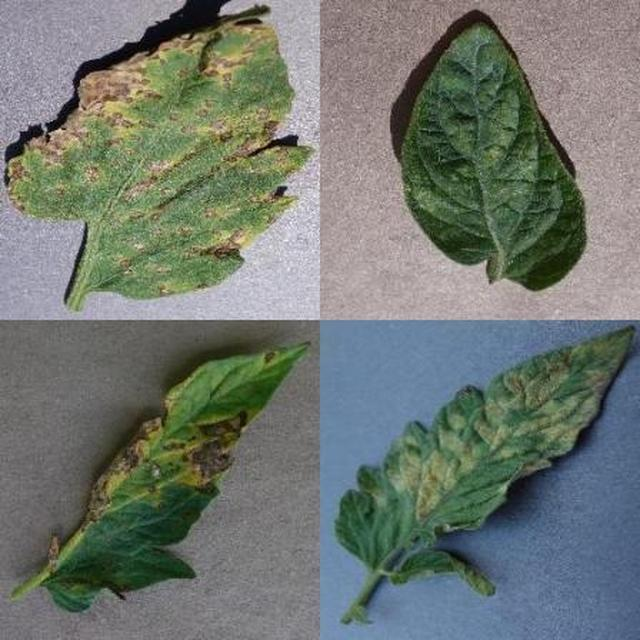Septoria Leaf: (230, 216, 640, 640)
